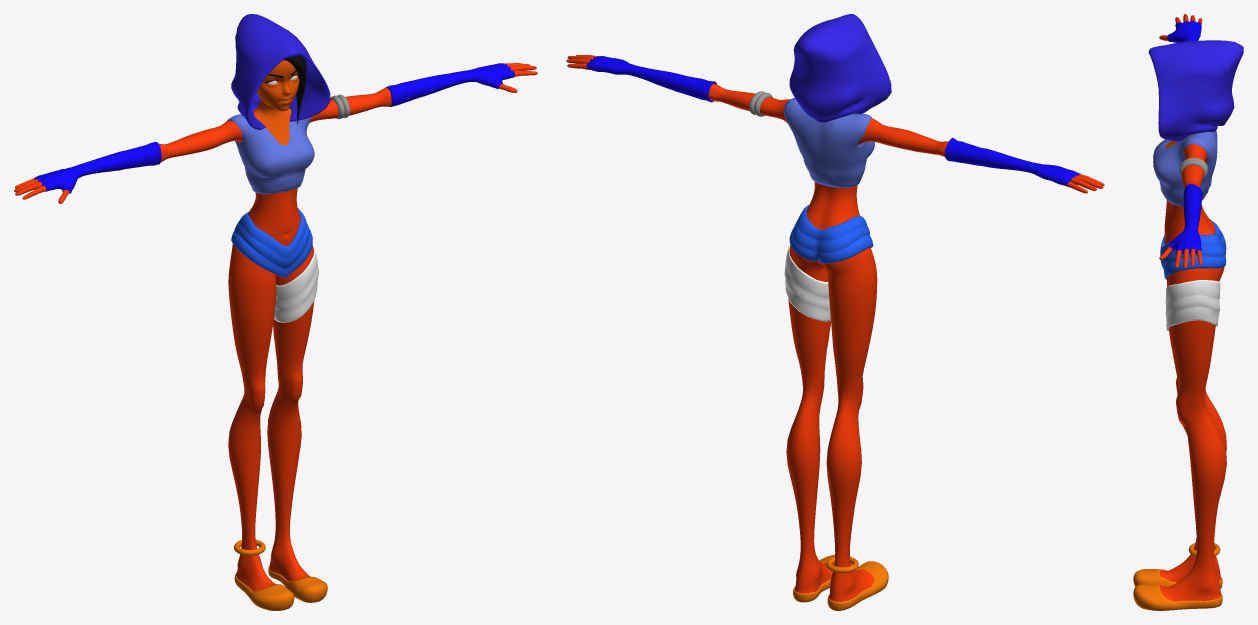
File: lucy.fbx
3 views of the same model, side by side, from view 1: azimuth 30°, elevation 25°; view 2: azimuth 150°, elevation 25°; view 3: azimuth 270°, elevation 25° (orthographic). The views are drawn at different scales.
Parts seen in each view (by area): view 1: Body, Hood, Gloves, Shirt, Pelvis, Face, Shoes, LegBandages; view 2: Body, Hood, Shirt, Gloves, Pelvis, LegBandages, Shoes; view 3: Body, Hood, Shirt, LegBandages, Gloves, Shoes, Pelvis, ArmRings.
Part boxes in pixels (box(x1,y1,x2,y2)): Body: box(14, 63, 537, 591); Hood: box(231, 14, 330, 129); Gloves: box(34, 63, 514, 193); Shirt: box(226, 107, 314, 194); Pelvis: box(231, 208, 312, 277); Face: box(253, 60, 299, 145); Shoes: box(234, 565, 327, 610); LegBandages: box(274, 245, 318, 322); Body: box(566, 55, 1104, 601); Hood: box(789, 14, 891, 122); Shirt: box(784, 98, 874, 187); Gloves: box(586, 56, 1080, 187); Pelvis: box(789, 205, 873, 263); LegBandages: box(784, 244, 830, 321); Shoes: box(793, 554, 888, 610); Body: box(1159, 14, 1226, 601); Hood: box(1148, 40, 1243, 141); Shirt: box(1153, 130, 1217, 206); LegBandages: box(1165, 280, 1220, 331); Gloves: box(1167, 20, 1202, 254); Shoes: box(1133, 569, 1222, 610); Pelvis: box(1160, 219, 1226, 279); ArmRings: box(1179, 157, 1207, 178).
Bounding box in the file's own units: 62.39 × 63.98 × 11.52.
